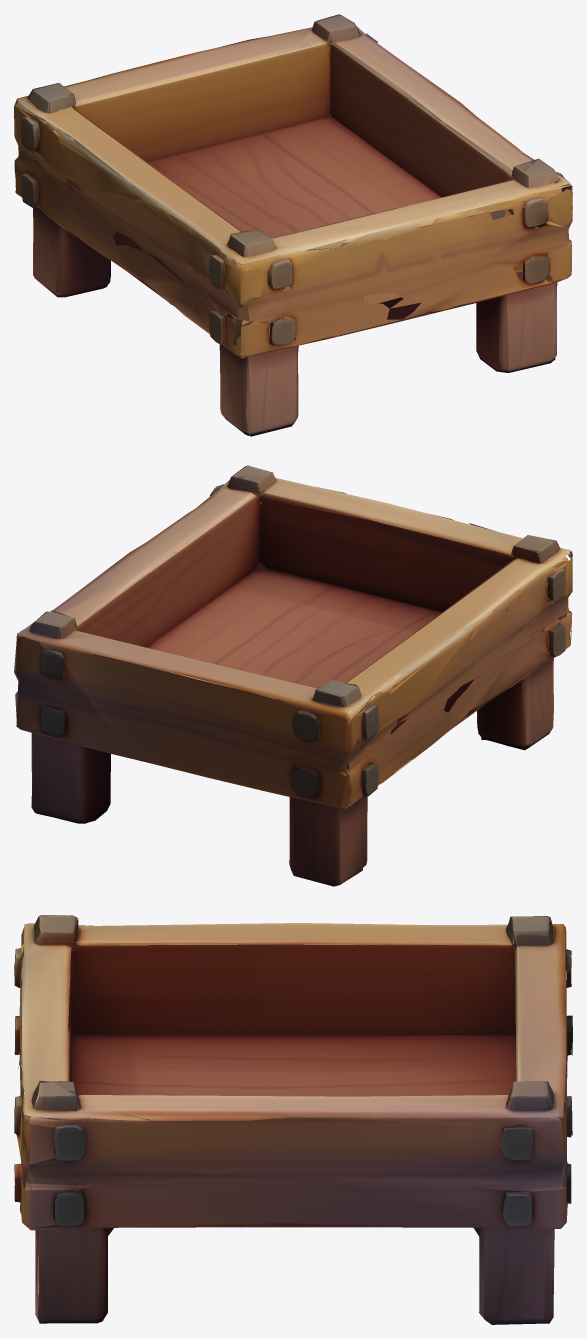
File: trough.fbx
3 renders of one model, top to bottom at view 1: azimuth 30°, elevation 25°; view 2: azimuth 150°, elevation 25°; view 3: azimuth 270°, elevation 25°, orthographic. The views are drawn at different scales.
Visible parts, largest first — view 1: trough; view 2: trough; view 3: trough.
Boxes of the visible parts, x1=… form: trough: x1=14, y1=14, x2=572, y2=436; trough: x1=14, y1=465, x2=572, y2=886; trough: x1=14, y1=915, x2=572, y2=1324.
Size of the model in its own units: 1.2 by 0.6379 by 1.4.
Materials: 1 (1 with a texture image).
